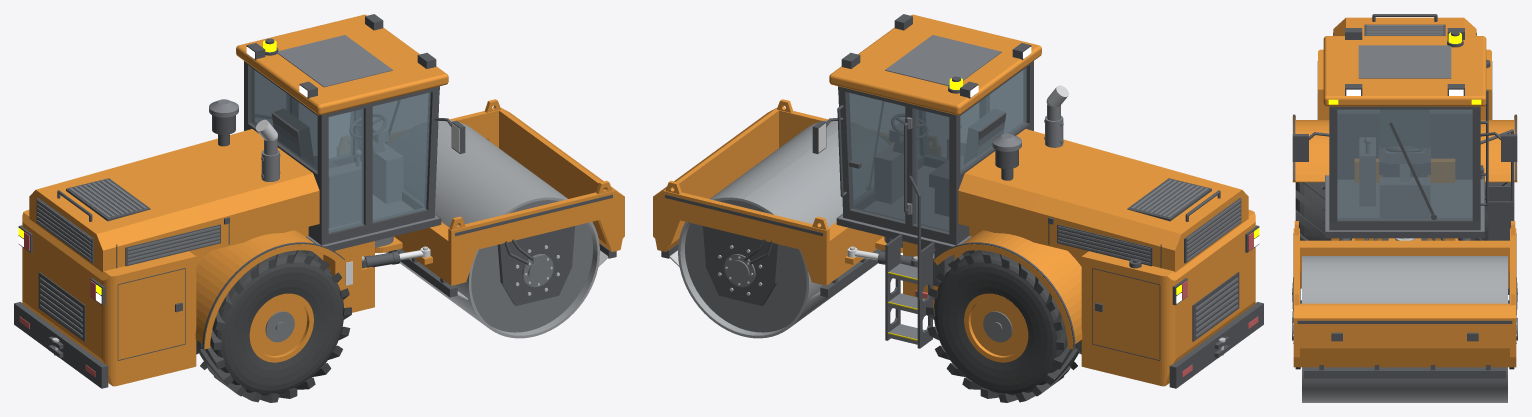
Rendered from roller-single-drum-84in.glb.
The picture shows the model from 3 angles, left to right: view 1: azimuth 30°, elevation 25°; view 2: azimuth 150°, elevation 25°; view 3: azimuth 270°, elevation 25°; orthographic projection. The views are drawn at different scales.
Parts seen in each view (by area): view 1: drum_frame_sides, drum_mount_plate_L, drum_end_plates, cab_glass, rubber_isolators_L, drum_shell, drum_end_bolts_L, steering_cylinder_rod; view 2: drum_frame_sides, drum_mount_plate_L, drum_end_plates, cab_glass, rubber_isolators_L, drum_shell, drum_end_bolts_L; view 3: drum_frame_sides, drum_mount_plate_L, drum_shell, cab_glass, drum_end_plates, rubber_isolators_L, rear_indicators.
Part boxes in pixels (x1=…): drum_frame_sides: x1=22, y1=14, x2=624, y2=386; drum_mount_plate_L: x1=14, y1=14, x2=616, y2=388; drum_end_plates: x1=37, y1=35, x2=592, y2=342; cab_glass: x1=251, y1=67, x2=430, y2=232; rubber_isolators_L: x1=196, y1=250, x2=351, y2=402; drum_shell: x1=385, y1=120, x2=599, y2=338; drum_end_bolts_L: x1=52, y1=119, x2=608, y2=355; steering_cylinder_rod: x1=345, y1=123, x2=459, y2=285; drum_frame_sides: x1=653, y1=14, x2=1255, y2=386; drum_mount_plate_L: x1=661, y1=14, x2=1263, y2=388; drum_end_plates: x1=685, y1=35, x2=1240, y2=344; cab_glass: x1=847, y1=67, x2=1026, y2=232; rubber_isolators_L: x1=926, y1=250, x2=1081, y2=402; drum_shell: x1=678, y1=120, x2=877, y2=338; drum_end_bolts_L: x1=669, y1=85, x2=1225, y2=355; drum_frame_sides: x1=1292, y1=17, x2=1517, y2=367; drum_mount_plate_L: x1=1292, y1=14, x2=1517, y2=378; drum_shell: x1=1302, y1=256, x2=1507, y2=402; cab_glass: x1=1337, y1=109, x2=1472, y2=219; drum_end_plates: x1=1292, y1=25, x2=1517, y2=340; rubber_isolators_L: x1=1295, y1=182, x2=1514, y2=303; rear_indicators: x1=1328, y1=32, x2=1481, y2=104.
Size of the model in its own units: 6 by 3.14 by 2.33.
